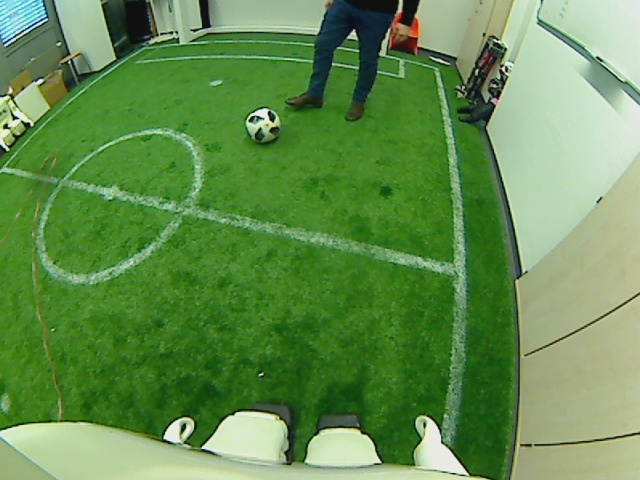ball: (244, 108, 280, 143)
